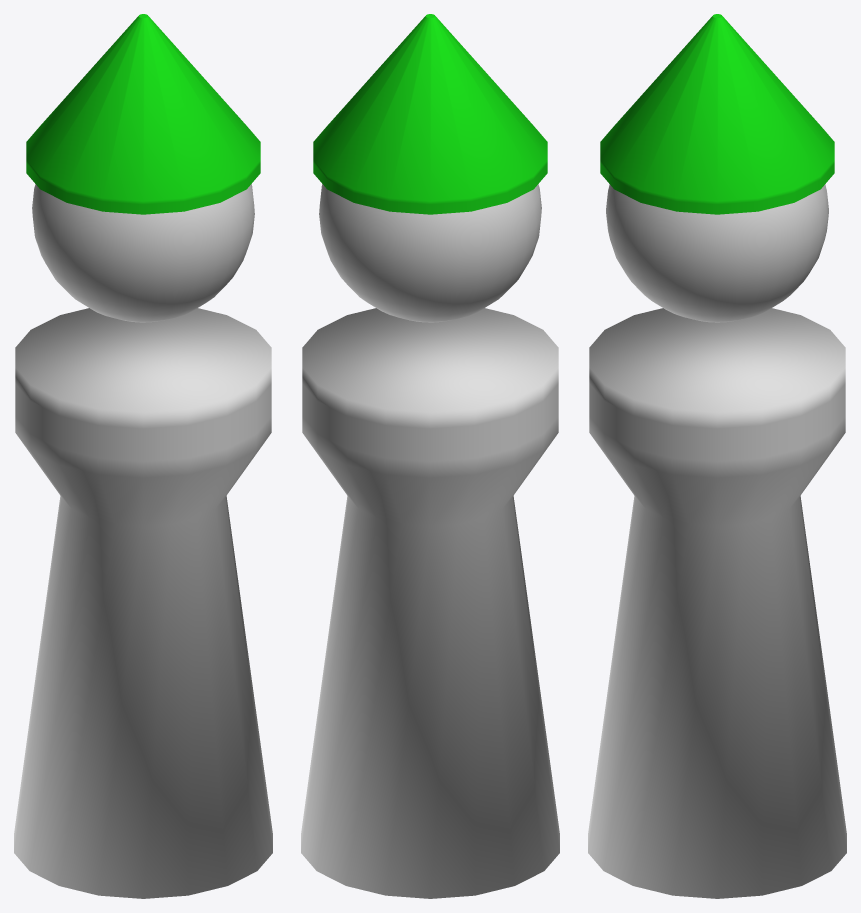
File: figure3.FBX
3 renders of one model, left to right at view 1: azimuth 30°, elevation 25°; view 2: azimuth 150°, elevation 25°; view 3: azimuth 270°, elevation 25°, orthographic.
Parts seen in each view (by area): view 1: Cylinder001, Cylinder002, Sphere001; view 2: Cylinder001, Cylinder002, Sphere001; view 3: Cylinder001, Cylinder002, Sphere001.
Part boxes in pixels (x1=…): Cylinder001: x1=14, y1=308, x2=272, y2=898; Cylinder002: x1=26, y1=14, x2=260, y2=214; Sphere001: x1=32, y1=184, x2=254, y2=322; Cylinder001: x1=301, y1=308, x2=559, y2=898; Cylinder002: x1=313, y1=14, x2=547, y2=214; Sphere001: x1=319, y1=184, x2=541, y2=322; Cylinder001: x1=588, y1=308, x2=846, y2=898; Cylinder002: x1=600, y1=14, x2=834, y2=214; Sphere001: x1=606, y1=184, x2=828, y2=322.
Size of the model in its own units: 27.8 by 96.56 by 27.38.
